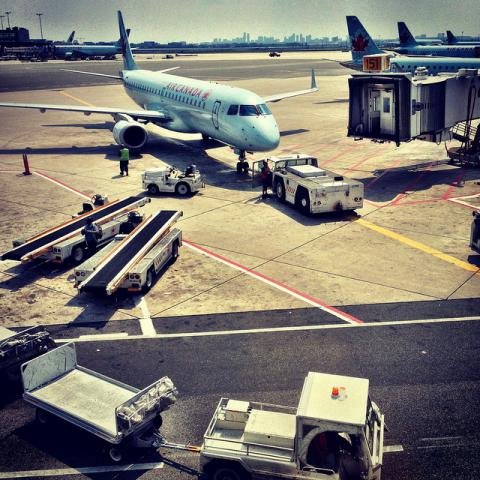car: (142, 164, 202, 198), (269, 52, 281, 57)
truck: (198, 374, 388, 472), (252, 153, 363, 217), (141, 164, 206, 196)
